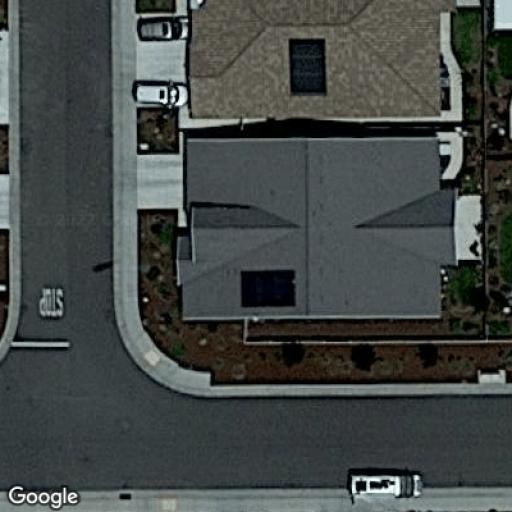solar-panel: (284, 36, 331, 99), (238, 265, 297, 311)
